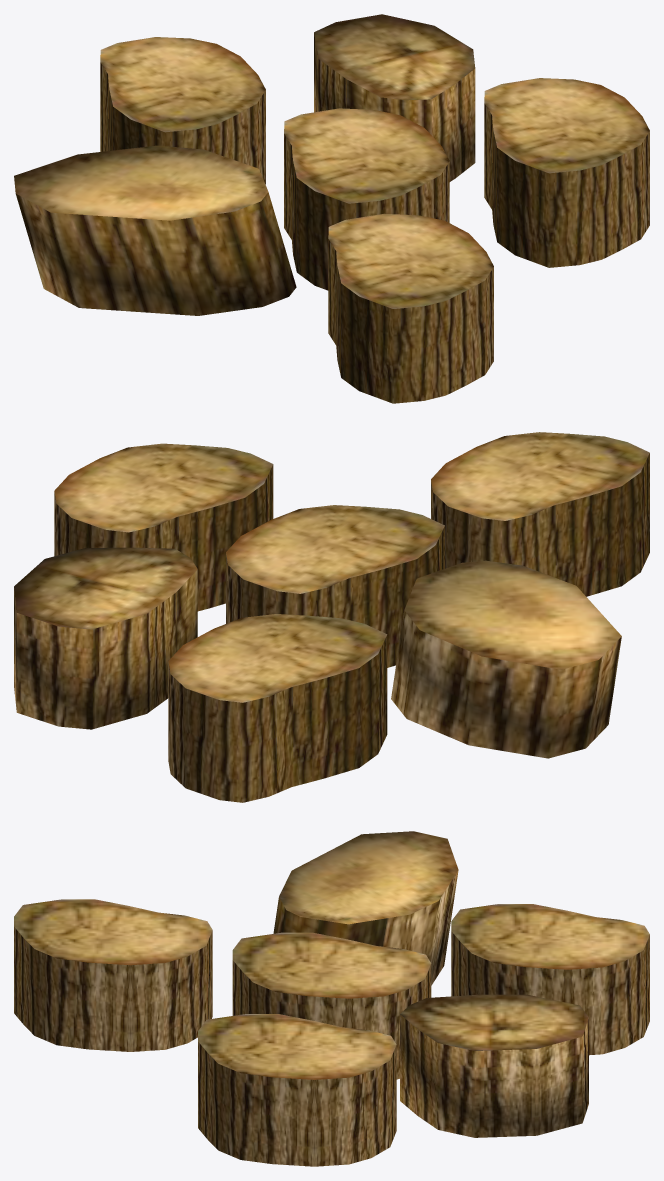
The model's file is hujisheng.FBX.
The picture shows the model from 3 angles, top to bottom: view 1: azimuth 30°, elevation 25°; view 2: azimuth 150°, elevation 25°; view 3: azimuth 270°, elevation 25°; orthographic projection. The views are drawn at different scales.
Parts seen in each view (by area): view 1: Line001, Line005, Line006, Line004, Line002, Line003; view 2: Line001, Line002, Line003, Line005, Line006, Line004; view 3: Line006, Line005, Line003, Line002, Line001, Line004.
Boxes of the visible parts, x1,y1,x2,y2 form: Line001: (14, 145, 296, 315); Line005: (328, 213, 493, 403); Line006: (484, 78, 649, 267); Line004: (284, 108, 449, 290); Line002: (100, 37, 265, 184); Line003: (314, 14, 475, 181); Line001: (391, 560, 621, 758); Line002: (168, 614, 387, 802); Line003: (14, 547, 197, 729); Line005: (431, 432, 649, 596); Line006: (54, 443, 273, 611); Line004: (226, 505, 444, 667); Line006: (198, 1014, 396, 1166); Line005: (14, 899, 212, 1051); Line003: (400, 994, 588, 1137); Line002: (451, 904, 649, 1055); Line001: (273, 831, 458, 985); Line004: (232, 932, 431, 1079).
Size of the model in its own units: 0.3071 by 0.05 by 0.3319.
Materials: 1 (1 with a texture image).
